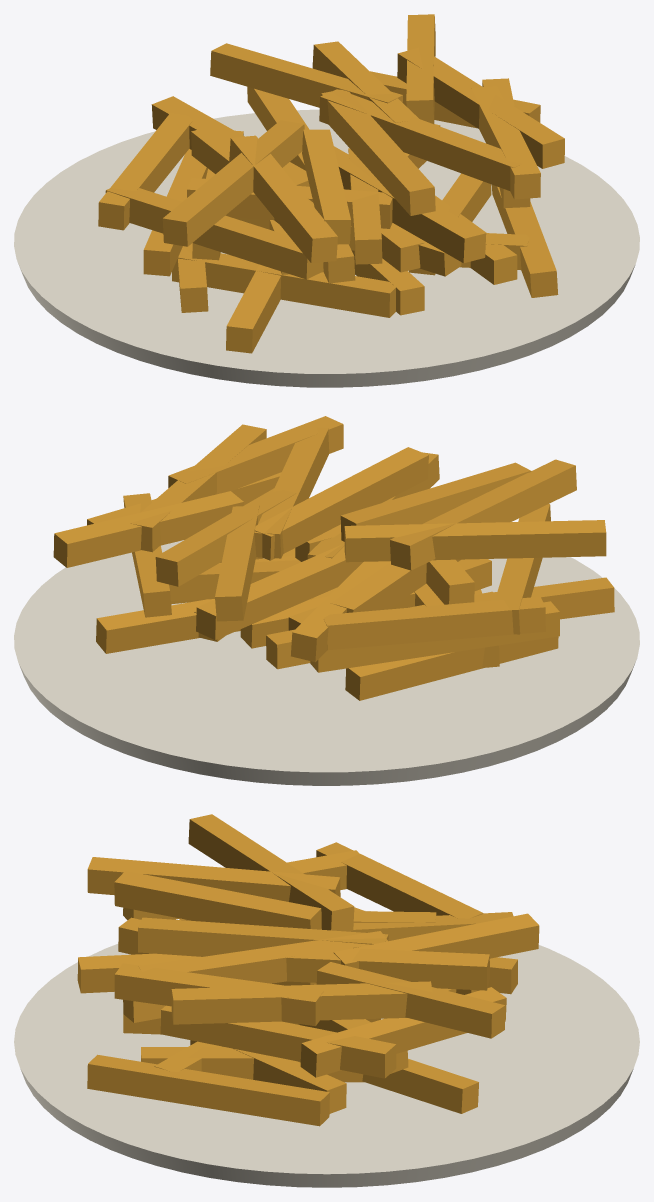
The model's file is rustic-fries.glb.
3 renders of one model, top to bottom at view 1: azimuth 30°, elevation 25°; view 2: azimuth 150°, elevation 25°; view 3: azimuth 270°, elevation 25°, orthographic.
Bounding box in the file's own units: 0.21 × 0.0508 × 0.21.
